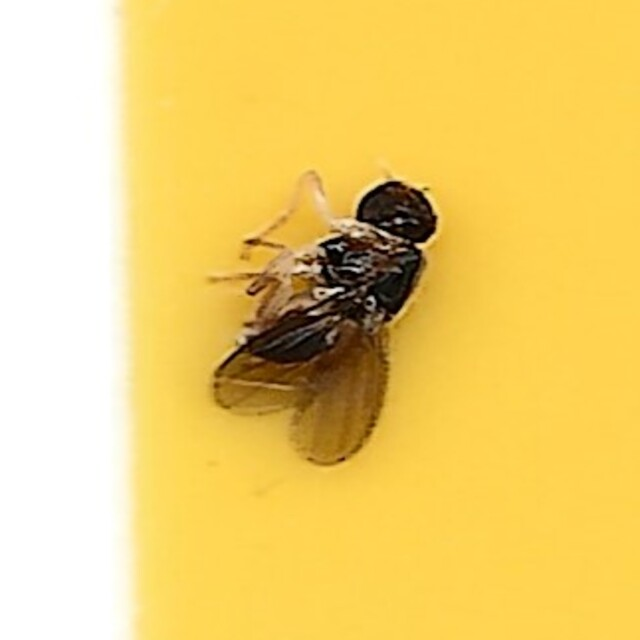Brachycera: (198, 170, 442, 470)
